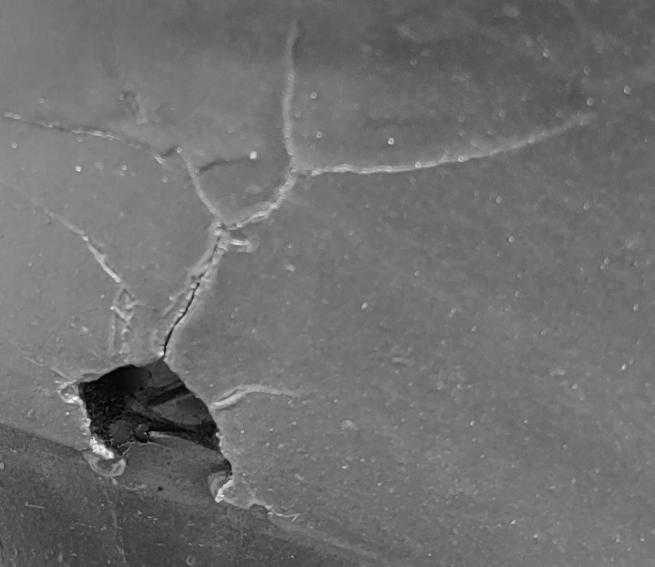crack: (0, 1, 655, 567)
